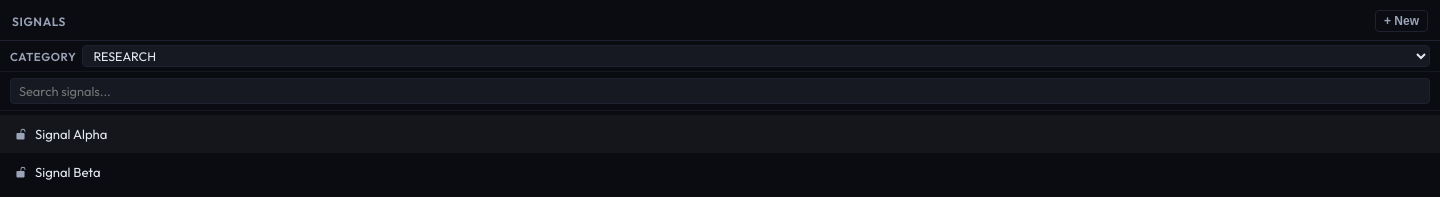
Test: <SignalsList> › double-clicking a row enters rename mode (input replaces iconBtn)
Double-click the button with test id "signal-row-s1": (71, 134) [0,115,1439,153]
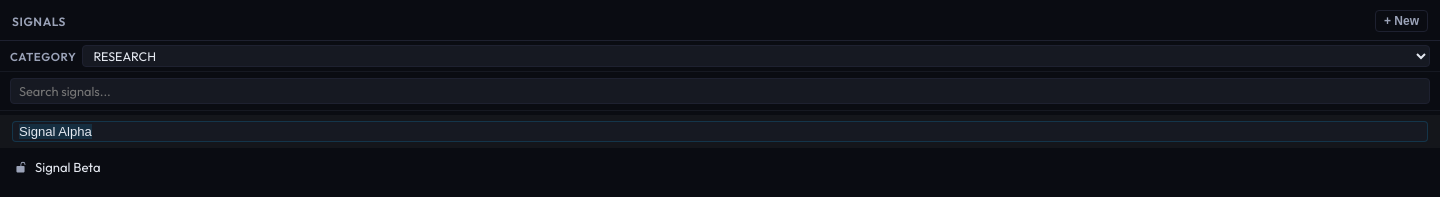
Expected: the field named "rename signal alpha" is shown, [12,121,1428,142]
